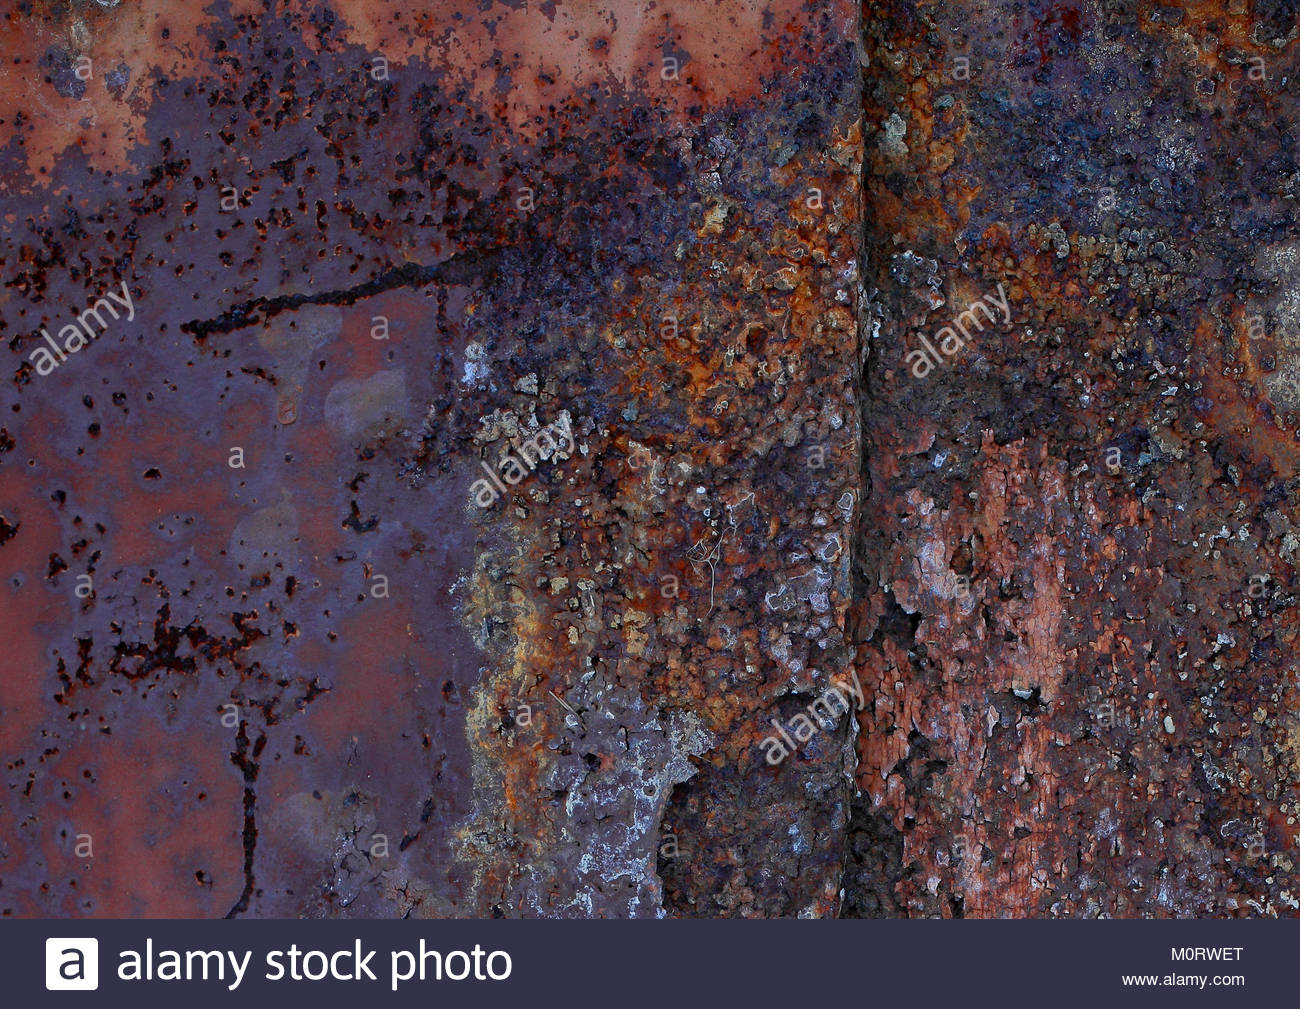rust: (4, 8, 1300, 915)
